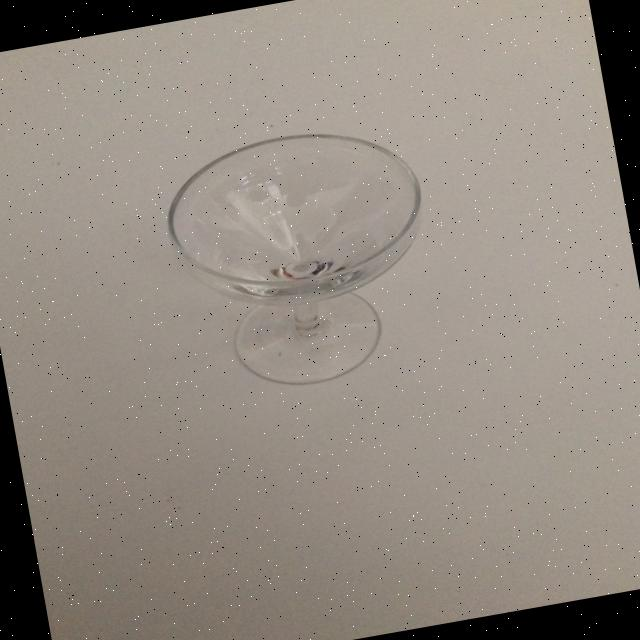glass: (154, 113, 450, 403)
